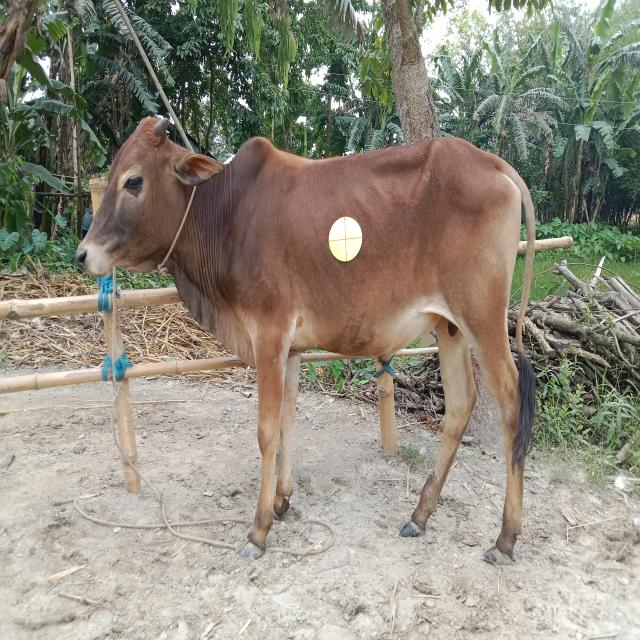badan_sapi: (232, 153, 532, 348)
sapi: (72, 109, 560, 565)
